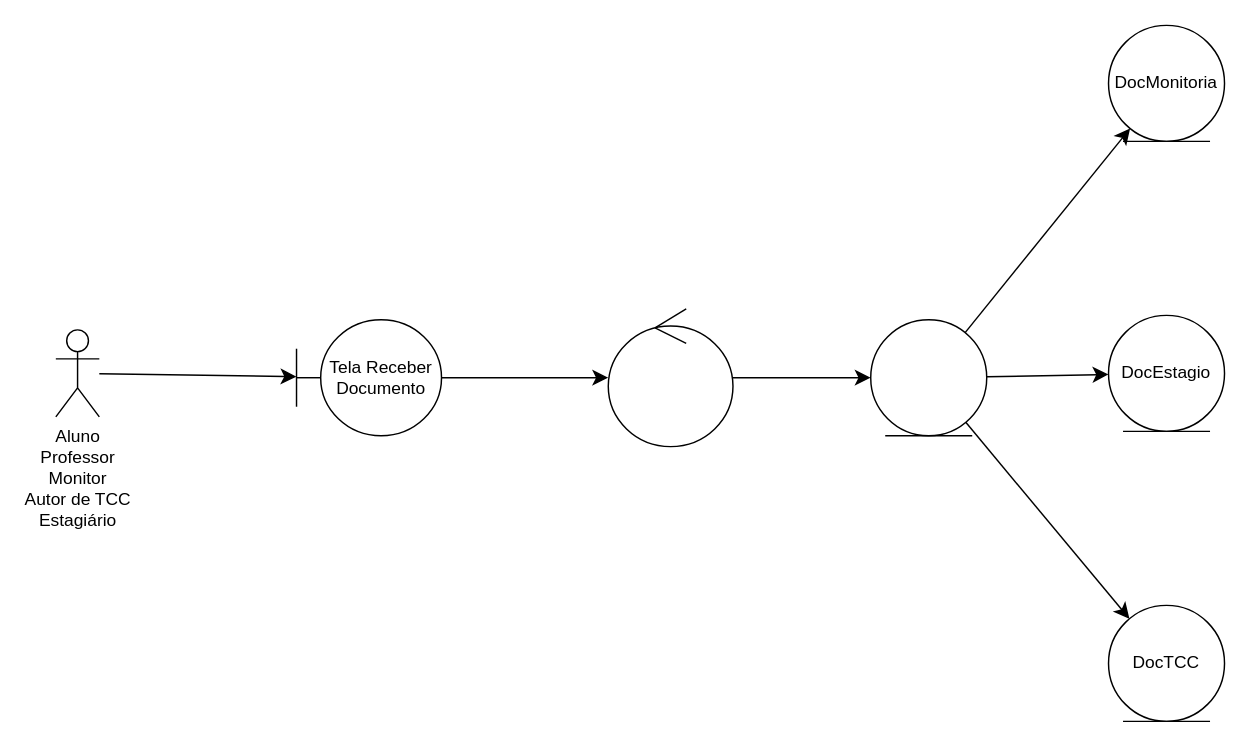
This 1250x747 diagram has some shape labels left out. Each missing label, with the centre of its shape:
"Controlador Receber Documento" belongs at pixel 670 377.
"Documento" belongs at pixel 928 377.
